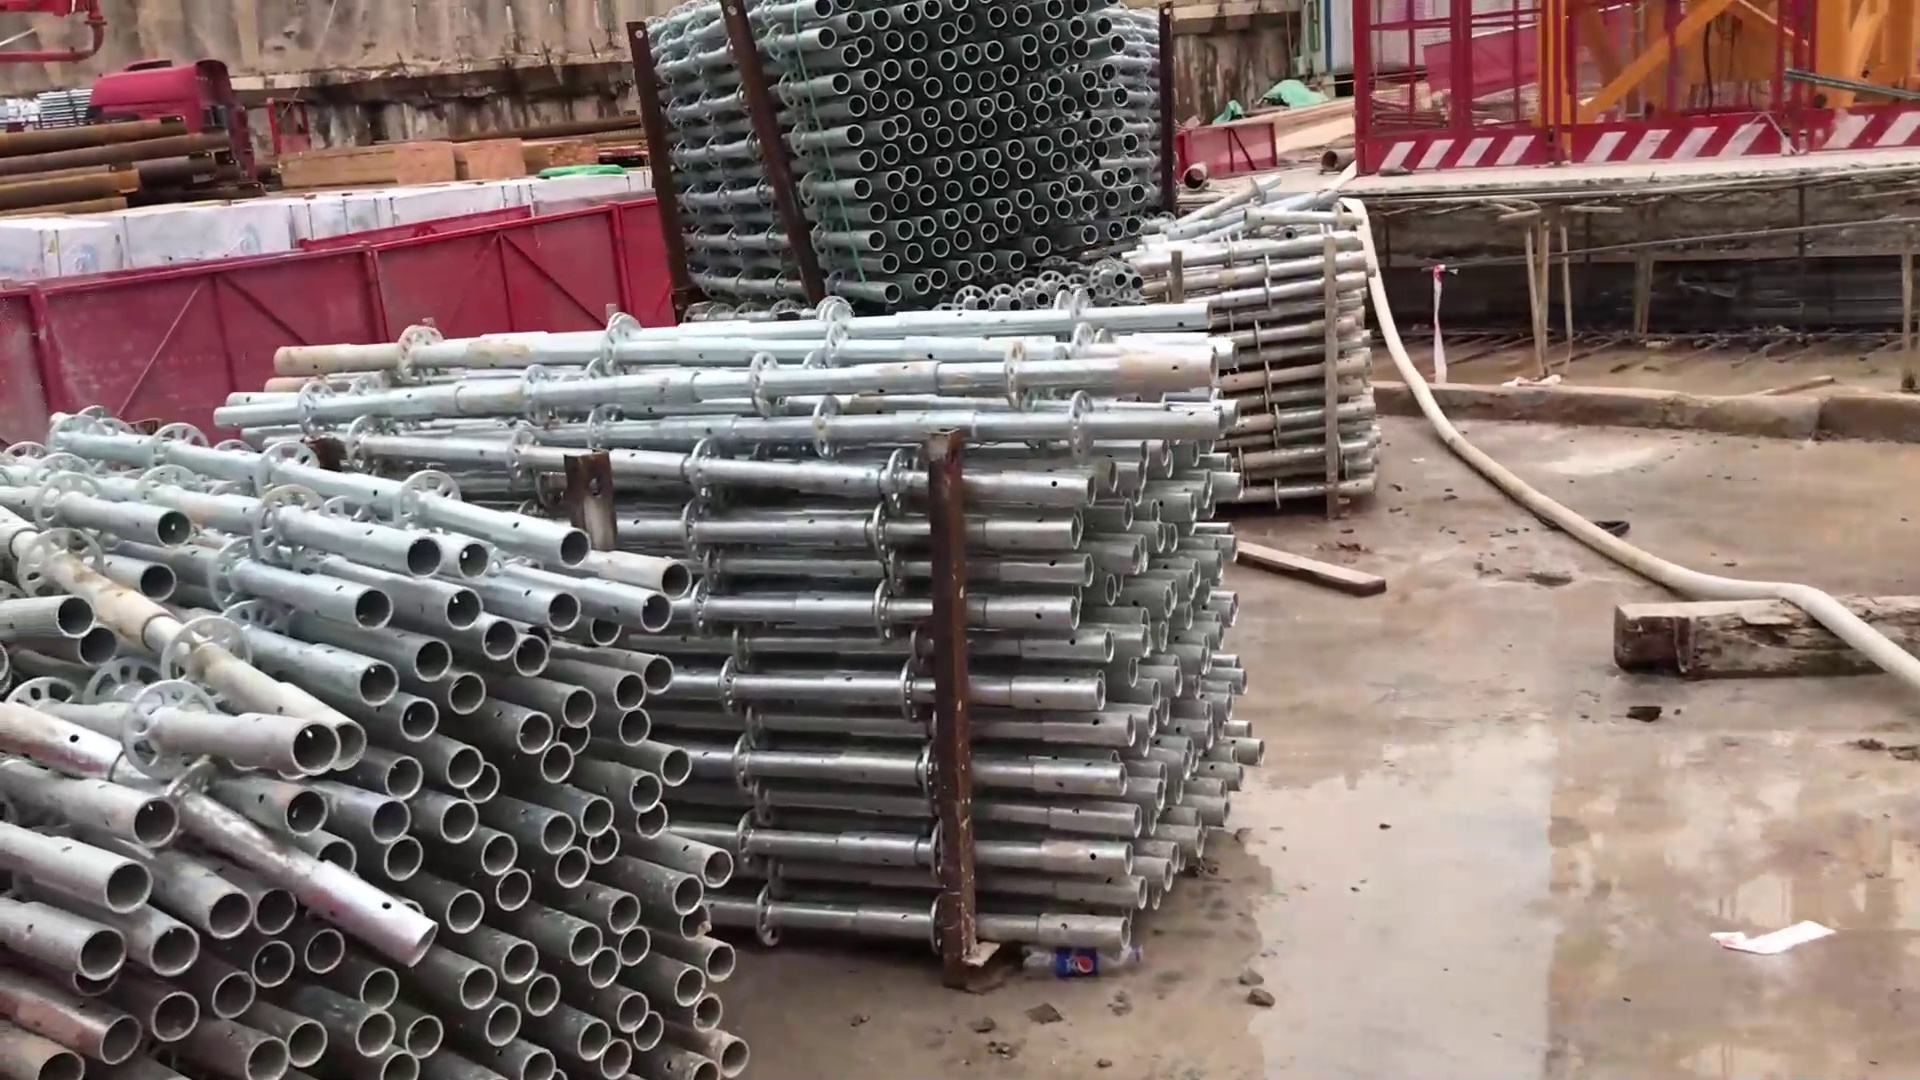fence: (1336, 3, 1920, 185), (353, 200, 653, 326)
scaffold: (8, 415, 777, 1080), (717, 276, 1273, 989), (680, 1, 1159, 311), (1225, 220, 1403, 542)
wood: (295, 137, 611, 189)
